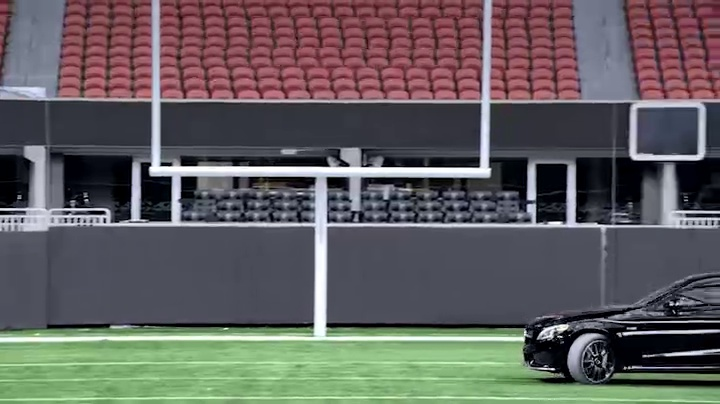amg: (523, 265, 720, 382)
